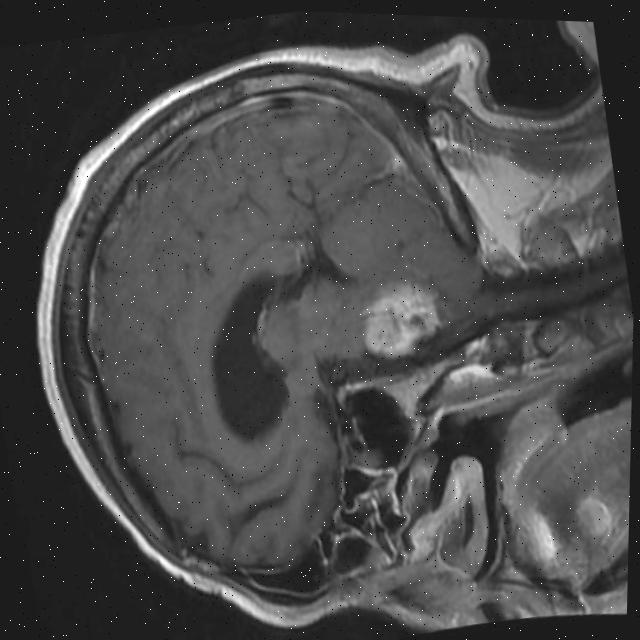Meningioma: (352, 271, 450, 366)
